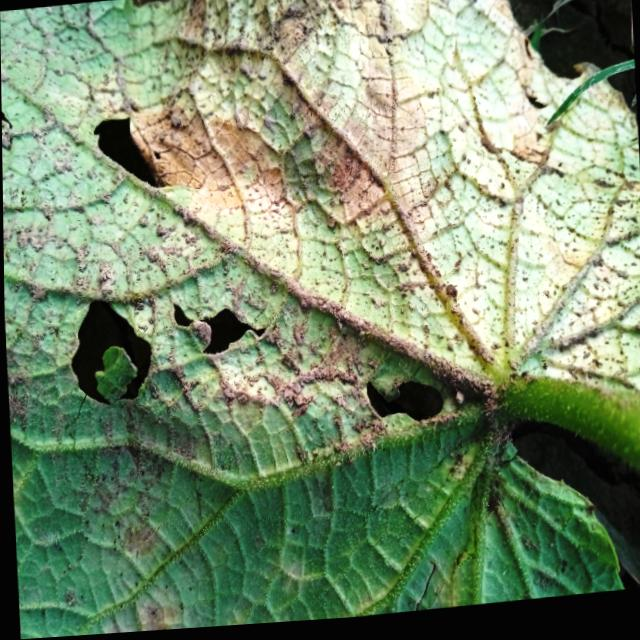Anthracnose: (59, 286, 156, 420), (89, 104, 166, 201), (165, 290, 273, 358), (357, 367, 462, 434)
